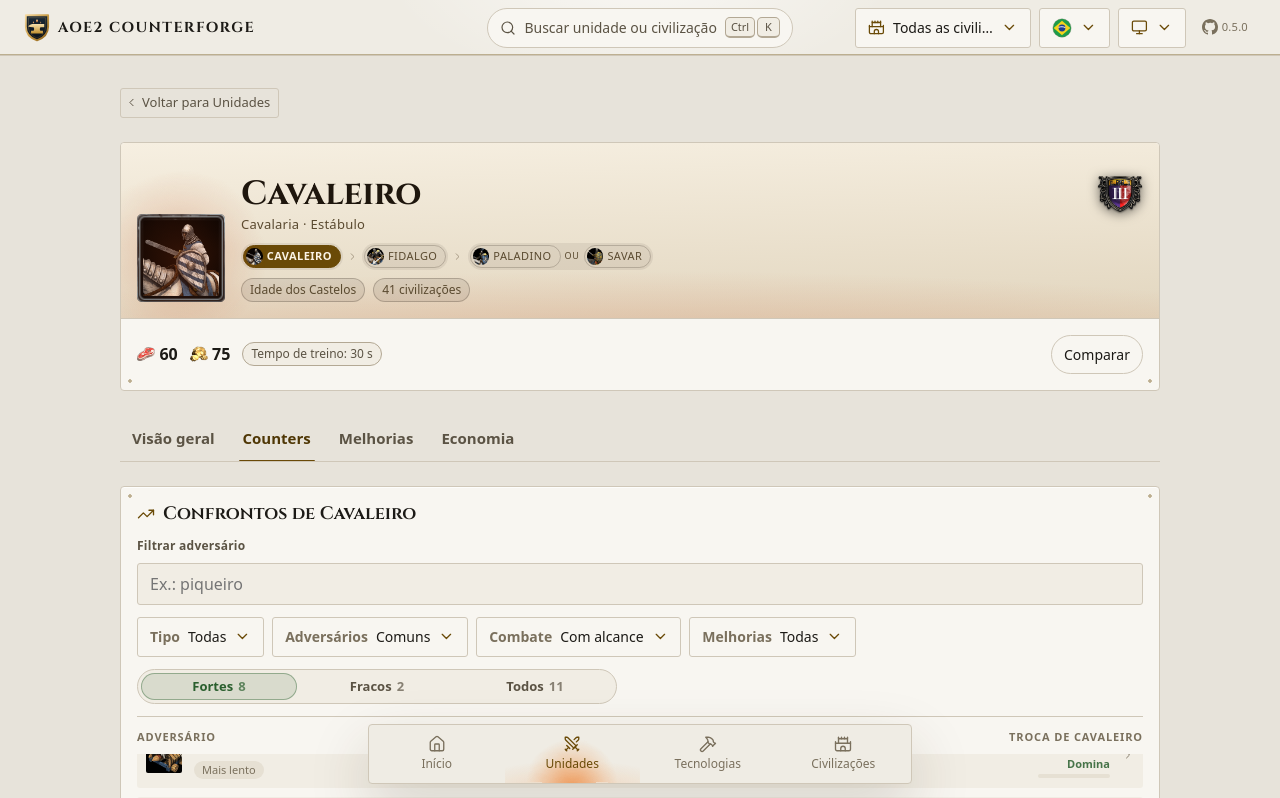
Test case: App › counts what the opponent filter leaves on each end of the ranking
(page scrolled)
In the search field labelled "Filtrar adversário": {"x": 640, "y": 584} [137,563,1143,605], type "alabard"
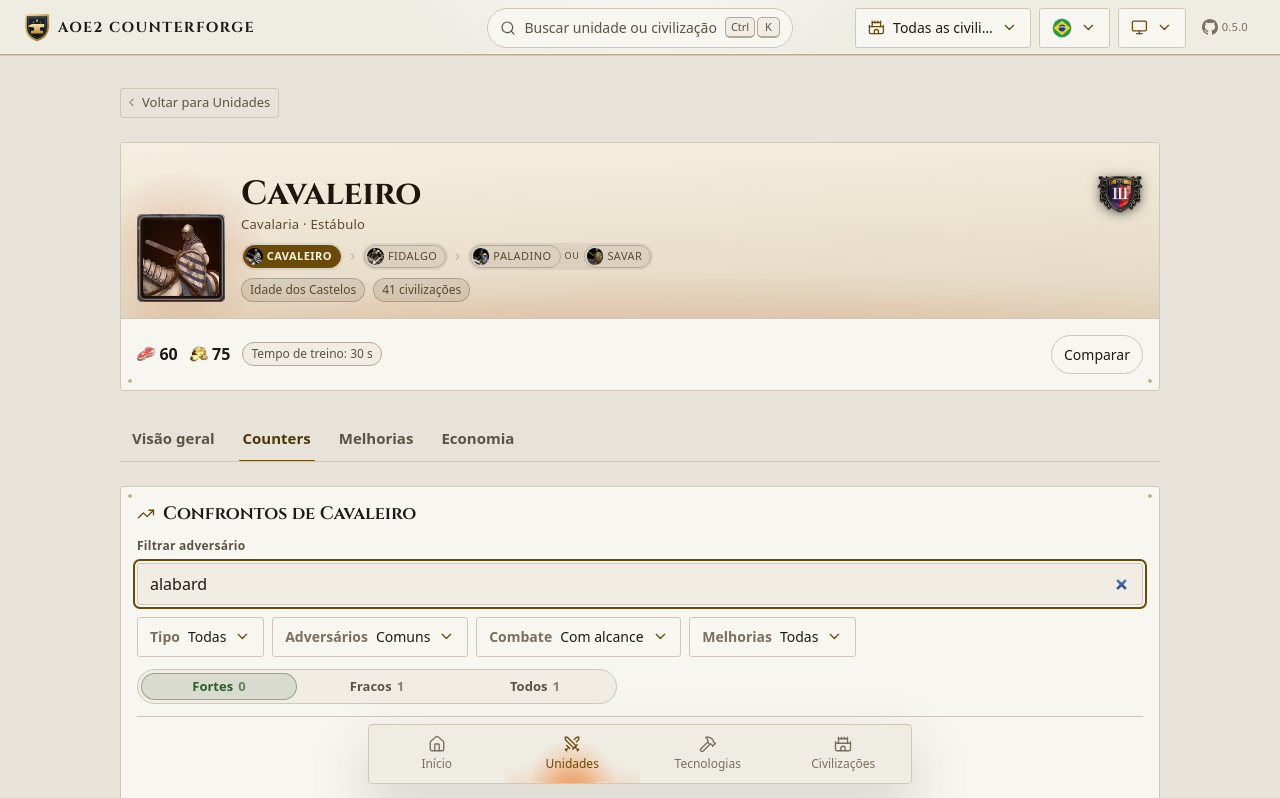
expect the button "Fortes0" is shown: met, box [141,673,297,700]
expect the button "Fracos1" is shown: met, box [299,673,455,700]
